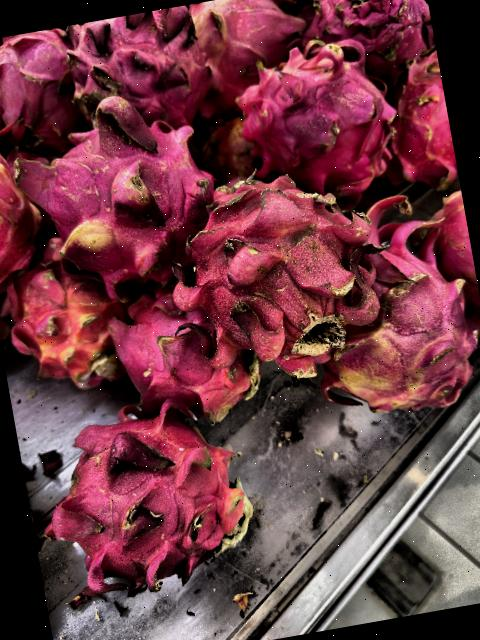buah-naga-belum-matang: (332, 206, 480, 426), (4, 252, 123, 393), (0, 143, 48, 289)
buah-naga-matang: (35, 399, 265, 576), (184, 170, 366, 362), (11, 107, 212, 278), (230, 35, 396, 197), (36, 2, 217, 148), (103, 280, 268, 434), (0, 26, 90, 155), (384, 45, 460, 194), (293, 0, 434, 80), (188, 0, 303, 88)
